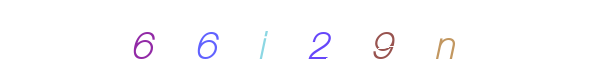2: (265, 0, 345, 80)
6: (103, 0, 183, 80), (221, 0, 301, 80)
9: (344, 0, 424, 80)
I: (224, 0, 304, 80)
N: (388, 0, 468, 80)
